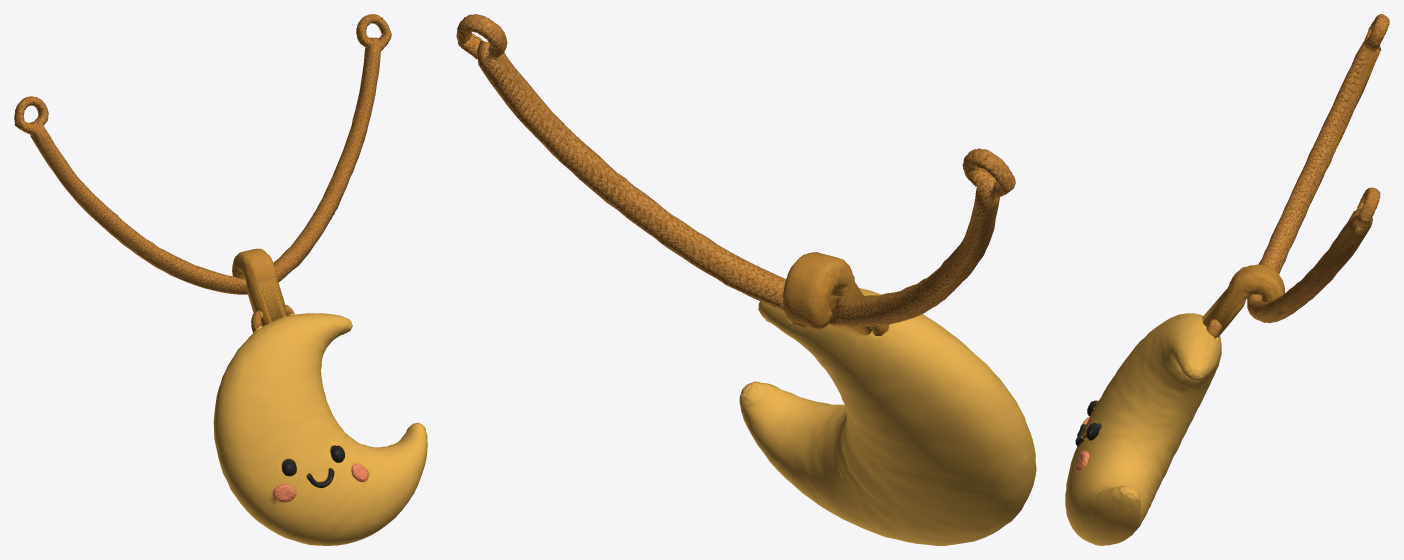
Rendered from mem_ac_moon.fbx.
The picture shows the model from 3 angles, left to right: view 1: azimuth 30°, elevation 25°; view 2: azimuth 150°, elevation 25°; view 3: azimuth 270°, elevation 25°; orthographic projection. The views are drawn at different scales.
Visible parts, largest first — view 1: tripo_node_1bc729af; view 2: tripo_node_1bc729af; view 3: tripo_node_1bc729af.
Boxes of the visible parts, x1,y1,x2,y2 form: tripo_node_1bc729af: [14, 14, 427, 545]; tripo_node_1bc729af: [456, 14, 1036, 545]; tripo_node_1bc729af: [1065, 14, 1389, 545].
Size of the model in its own units: 0.9785 by 0.998 by 0.6895.
